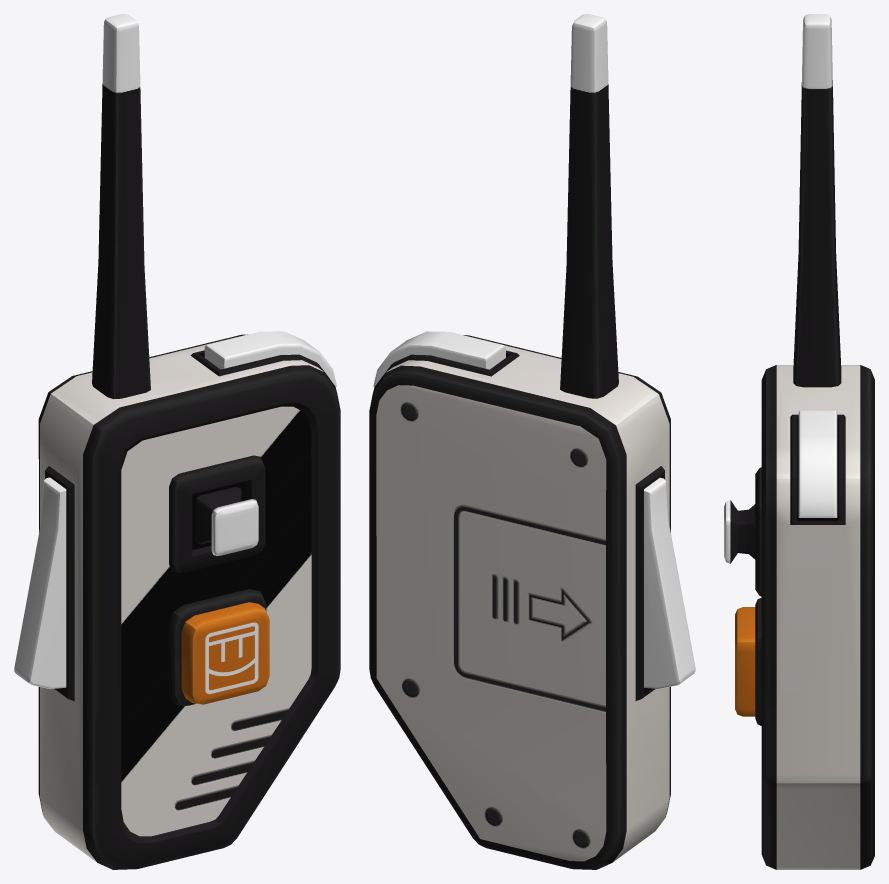
Rendered from rc car origanal remote.glb.
The picture shows the model from 3 angles, left to right: view 1: azimuth 30°, elevation 25°; view 2: azimuth 150°, elevation 25°; view 3: azimuth 270°, elevation 25°; orthographic projection. The views are drawn at different scales.
Parts seen in each view (by area): view 1: RC_Remote; view 2: RC_Remote; view 3: RC_Remote.
Boxes of the visible parts, x1,y1,x2,y2 form: RC_Remote: (14, 14, 340, 869); RC_Remote: (369, 14, 695, 869); RC_Remote: (724, 14, 874, 869).
Bounding box in the file's own units: 0.1426 × 0.3698 × 0.0622.
Materials: 1 (1 with a texture image).
